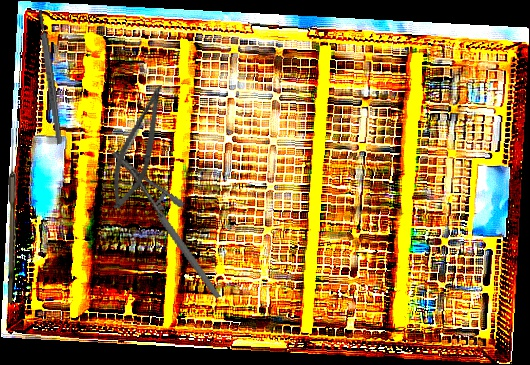Micro Scissor: (103, 80, 172, 214)
Needle Holder: (110, 134, 222, 316)
Scalpel Handle: (36, 9, 64, 145)
Surgical Spoon: (8, 129, 16, 303)
